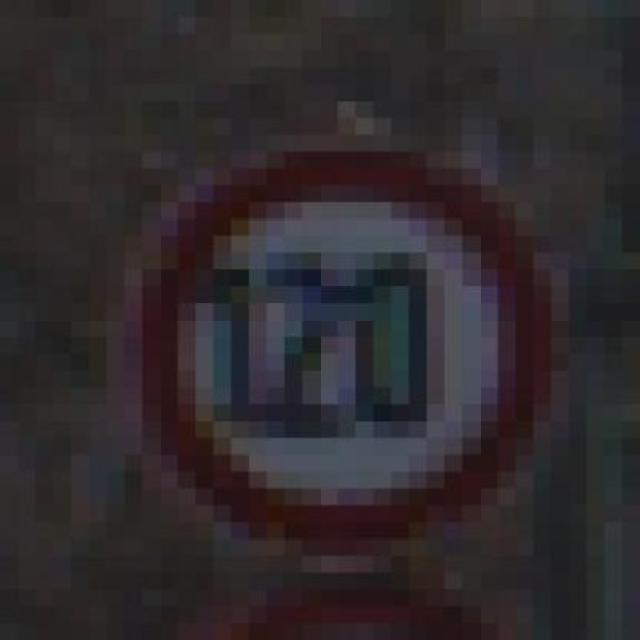forb_speed_over_120: (133, 149, 549, 552)
